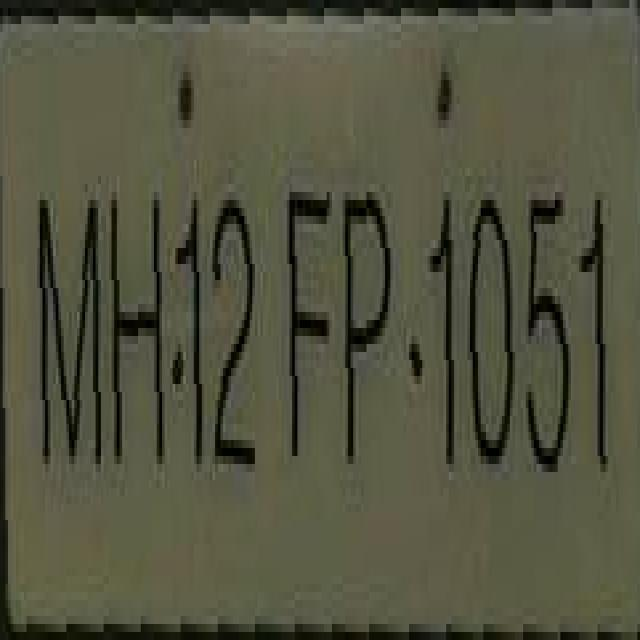license_plate: (0, 8, 611, 632)
